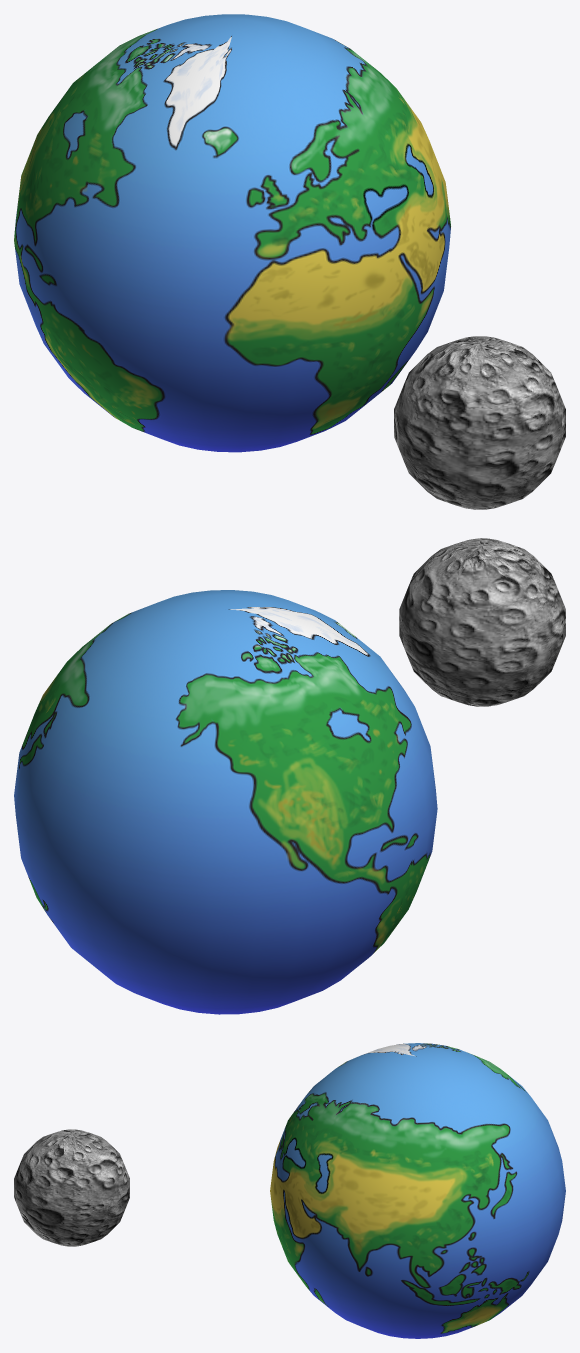
3 renders of one model, top to bottom at view 1: azimuth 30°, elevation 25°; view 2: azimuth 150°, elevation 25°; view 3: azimuth 270°, elevation 25°, orthographic. The views are drawn at different scales.
Visible parts, largest first — view 1: tierra, luna; view 2: tierra, luna; view 3: tierra, luna.
Boxes of the visible parts, <box> form: tierra: <box>14,14,450,452</box>; luna: <box>394,336,565,509</box>; tierra: <box>14,590,437,1014</box>; luna: <box>399,538,565,706</box>; tierra: <box>270,1043,565,1338</box>; luna: <box>14,1129,129,1246</box>.
Bounding box in the file's own units: 77.22 × 77.22 × 144.
